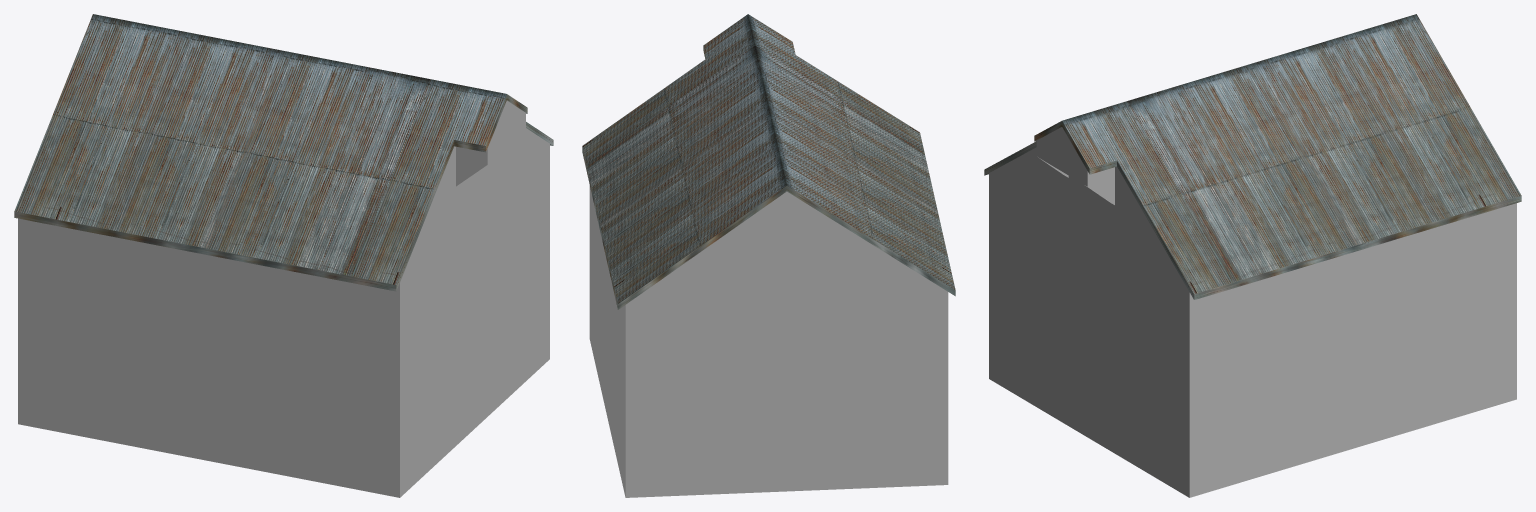
Rendered from SM_GenericBuilding_11.fbx.
3 renders of one model, left to right at view 1: azimuth 30°, elevation 25°; view 2: azimuth 150°, elevation 25°; view 3: azimuth 270°, elevation 25°, orthographic. The views are drawn at different scales.
Parts seen in each view (by area): view 1: SM_GenericBuilding_11; view 2: SM_GenericBuilding_11; view 3: SM_GenericBuilding_11.
Boxes of the visible parts, x1,y1,x2,y2 form: SM_GenericBuilding_11: [14, 14, 553, 497]; SM_GenericBuilding_11: [582, 14, 955, 497]; SM_GenericBuilding_11: [984, 14, 1521, 497].
Size of the model in its own units: 621 by 423 by 632.
